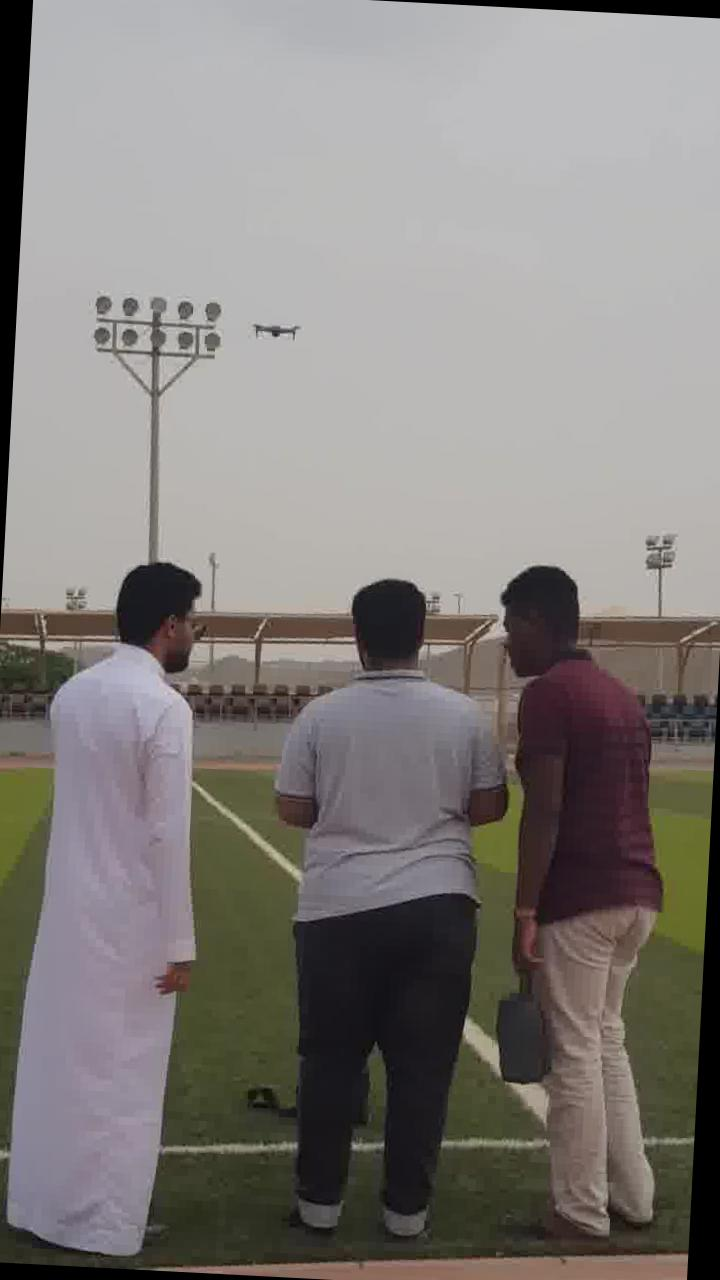drone: (236, 300, 324, 342)
